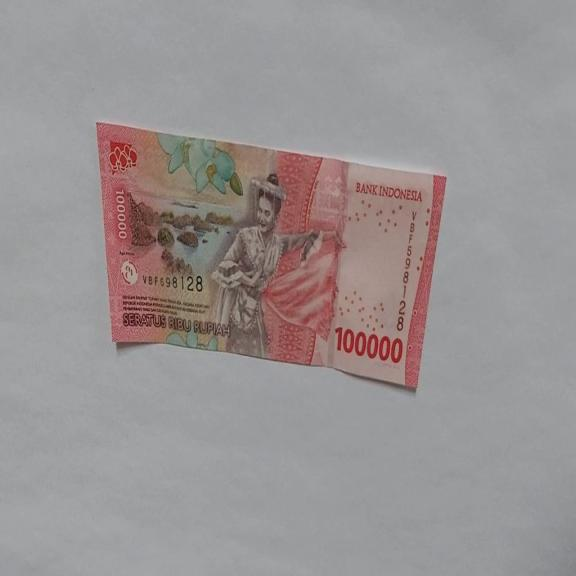Kertas: (334, 324, 403, 364)
